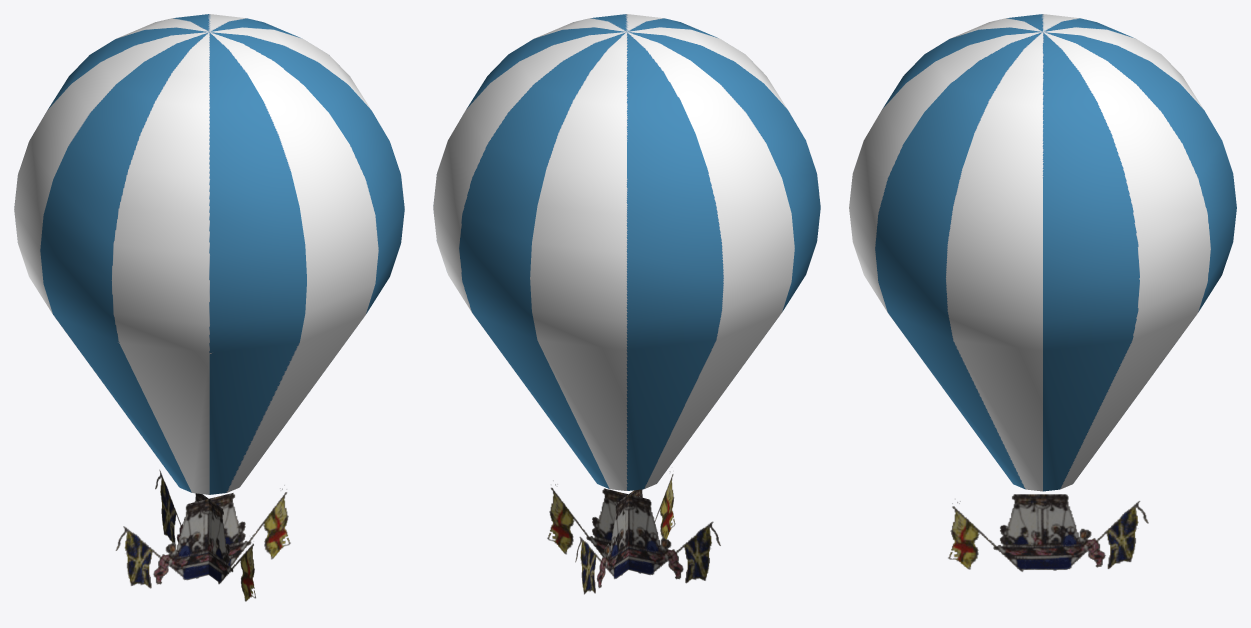
The model's file is balloon.glb.
3 renders of one model, left to right at view 1: azimuth 30°, elevation 25°; view 2: azimuth 150°, elevation 25°; view 3: azimuth 270°, elevation 25°, orthographic.
Visible parts, largest first — view 1: balloon, group_37.001, group_37; view 2: balloon, group_37.001, group_37; view 3: balloon, group_37.
Part boxes in pixels (left/top/right/bottom): balloon: left=14, top=14, right=404, bottom=494; group_37.001: left=115, top=485, right=290, bottom=588; group_37: left=155, top=469, right=255, bottom=601; balloon: left=433, top=14, right=820, bottom=490; group_37.001: left=547, top=480, right=720, bottom=583; group_37: left=575, top=471, right=675, bottom=594; balloon: left=849, top=14, right=1236, bottom=491; group_37: left=948, top=494, right=1148, bottom=571.
Bounding box in the file's own units: 2 × 3.08 × 2.
2 materials, 2 textured.
